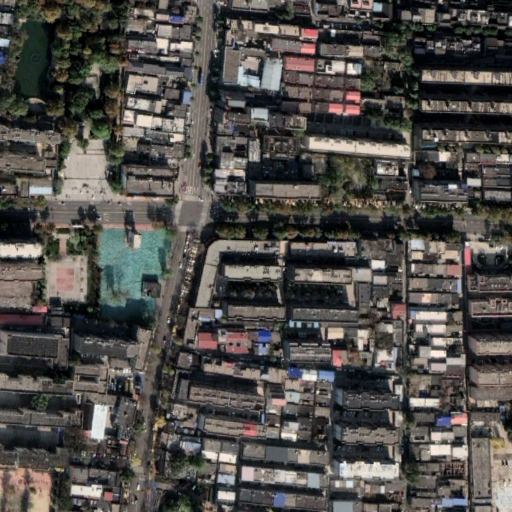cw: (93, 224, 177, 327)
